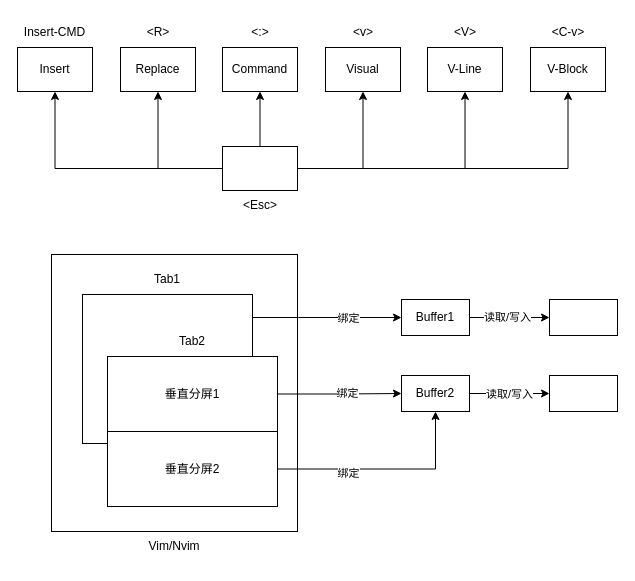
Image size: 635x581. Some labels were removed from this diagram. The centre of each missing label's shape, as x and y in pixels:
File1: [583,317]
File2: [583,393]
Normal: [260,168]
